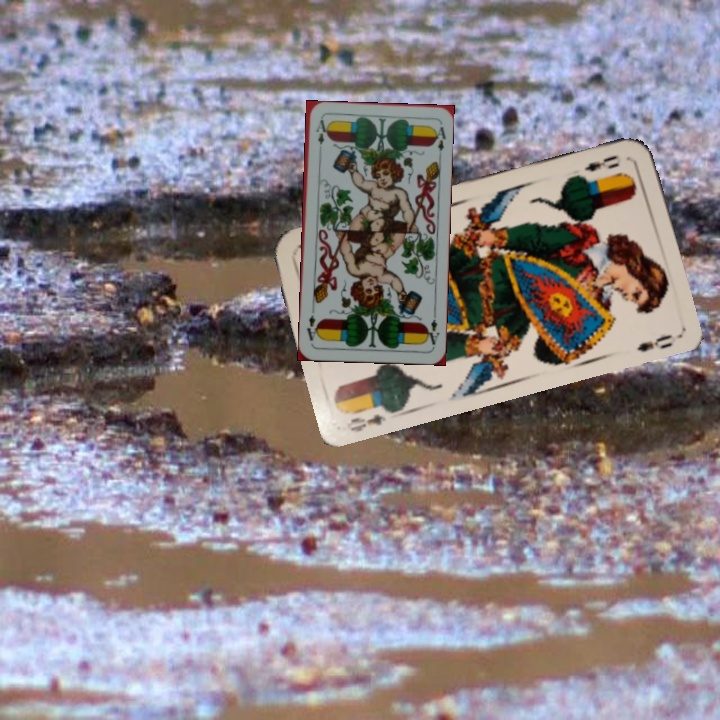EA: (422, 308, 442, 347), (311, 116, 328, 147)
EO: (342, 410, 389, 435), (580, 151, 622, 175)
